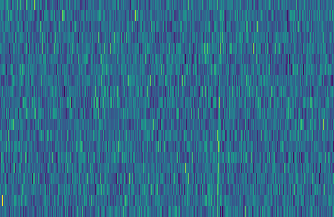signal: (213, 0, 226, 217)
